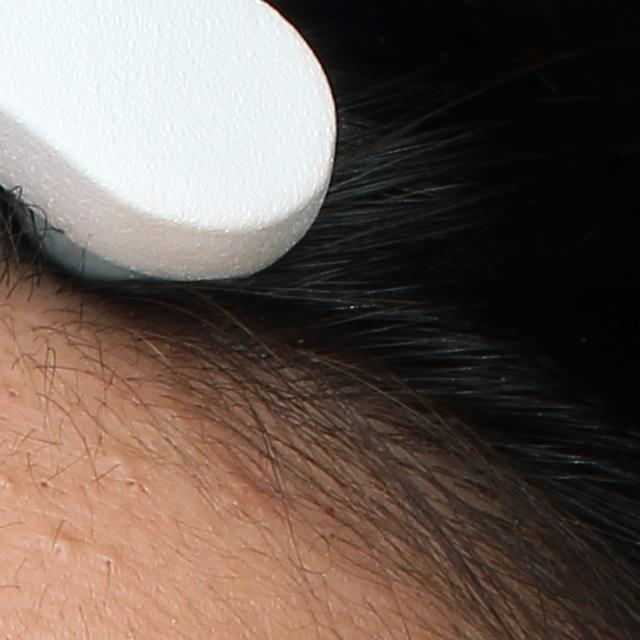comedo: (99, 444, 134, 477), (44, 532, 78, 563), (99, 553, 123, 573), (34, 475, 55, 494), (124, 474, 142, 493), (5, 385, 24, 403)
